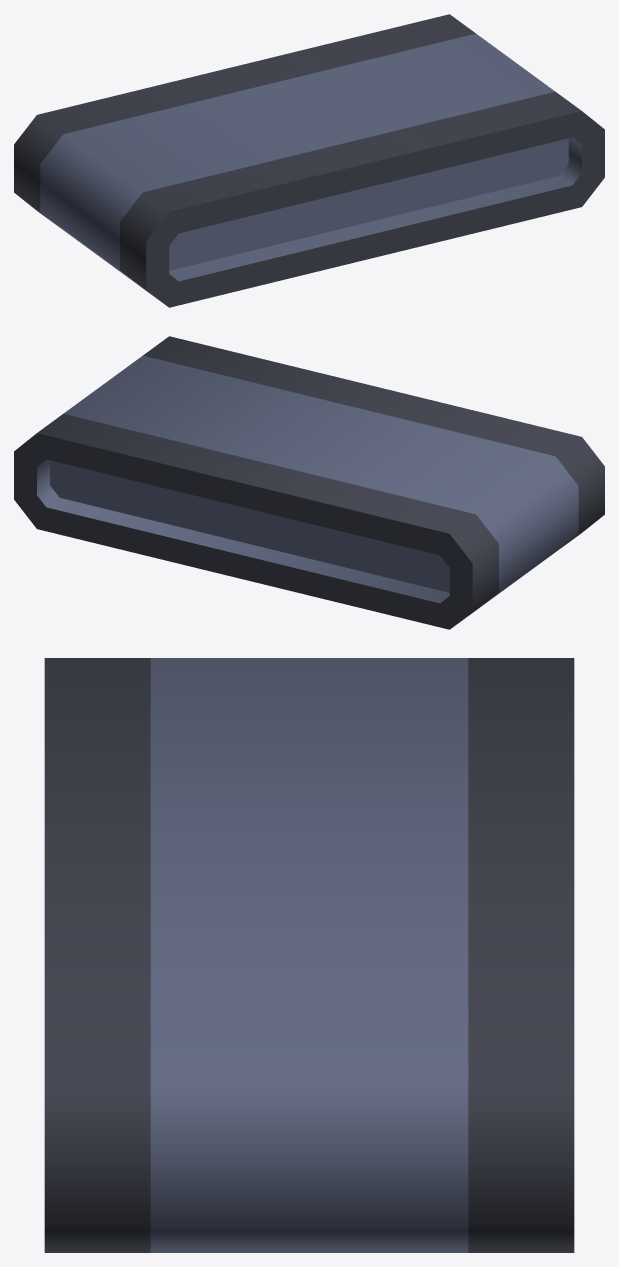
File: ConveyorLongStripe-transformed.glb
3 views of the same model, one above another, from view 1: azimuth 30°, elevation 25°; view 2: azimuth 150°, elevation 25°; view 3: azimuth 270°, elevation 25° (orthographic). The views are drawn at different scales.
Visible parts, largest first — view 1: conveyor-long-stripe; view 2: conveyor-long-stripe; view 3: conveyor-long-stripe.
Part boxes in pixels (x1,y1,x2,y2): conveyor-long-stripe: [14, 14, 604, 307]; conveyor-long-stripe: [14, 336, 604, 629]; conveyor-long-stripe: [44, 658, 574, 1252].
Size of the model in its own units: 2 by 0.4 by 1.
